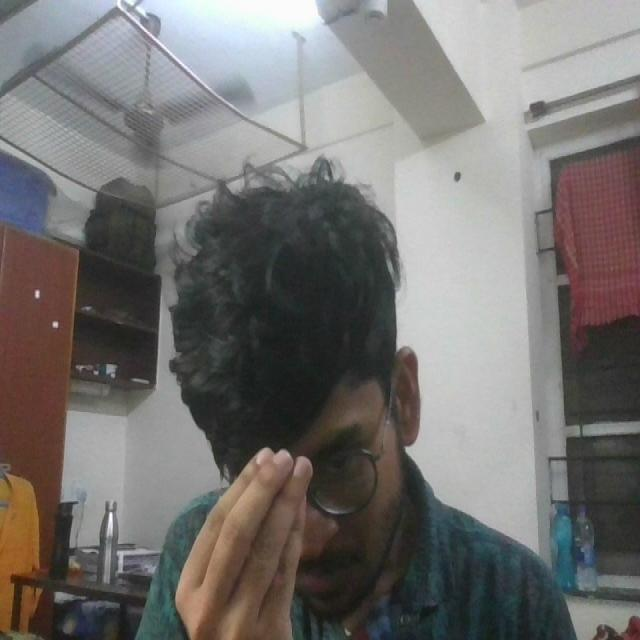Please: (164, 400, 334, 640)
